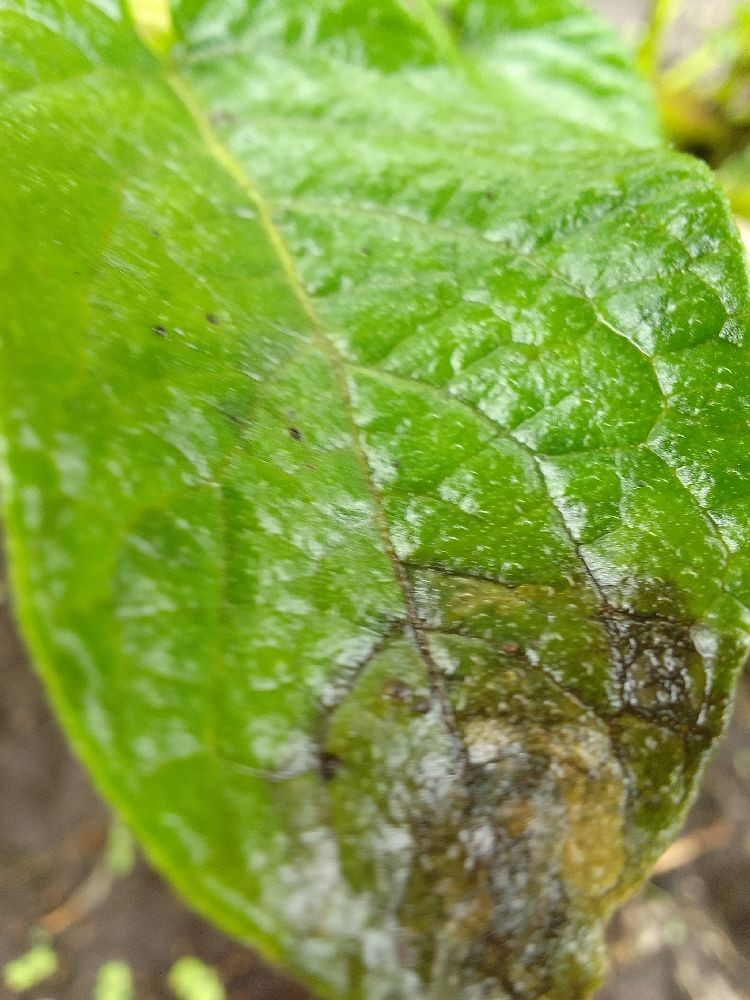late_blight: (0, 494, 423, 1000), (366, 578, 749, 999), (659, 81, 750, 179)
